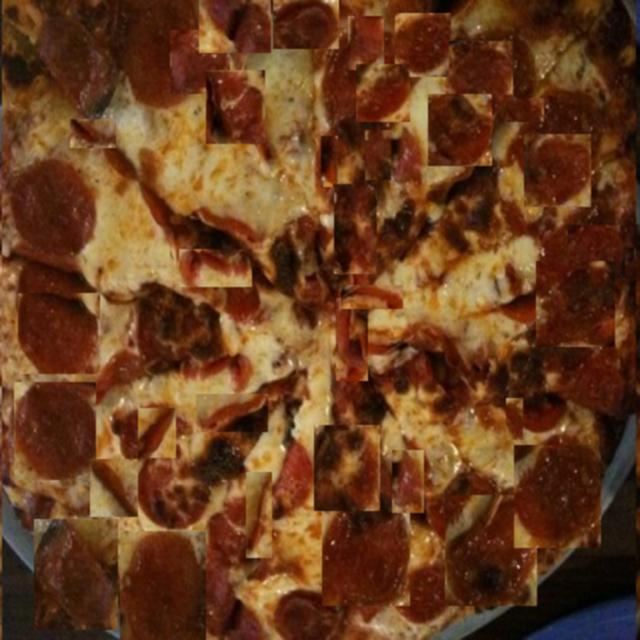pepperoni: (445, 495, 537, 606), (322, 492, 410, 606), (120, 531, 206, 640), (34, 519, 118, 630), (514, 445, 601, 548), (14, 382, 96, 480), (541, 347, 619, 442), (536, 261, 615, 347), (18, 293, 100, 374), (137, 104, 210, 184), (314, 425, 380, 511), (11, 170, 87, 244), (524, 134, 591, 207), (428, 94, 492, 166), (184, 316, 260, 376), (262, 119, 316, 201), (206, 70, 265, 144), (81, 223, 145, 291), (449, 41, 513, 103), (121, 173, 186, 234), (334, 184, 377, 274), (170, 30, 230, 94), (199, 0, 271, 53), (395, 13, 451, 77), (273, 0, 339, 49), (294, 334, 329, 424), (356, 64, 410, 122), (568, 225, 625, 278), (210, 564, 248, 640), (90, 459, 138, 517), (179, 249, 252, 287), (196, 394, 268, 432), (500, 206, 568, 246), (336, 298, 368, 381), (246, 472, 272, 558), (498, 312, 562, 344), (392, 450, 424, 513), (348, 16, 384, 70), (138, 408, 176, 458), (341, 285, 403, 309), (70, 120, 116, 150), (365, 130, 391, 180), (506, 99, 544, 122), (322, 136, 339, 187), (506, 398, 523, 441), (509, 110, 523, 153)
pizza: (2, 0, 636, 640)
